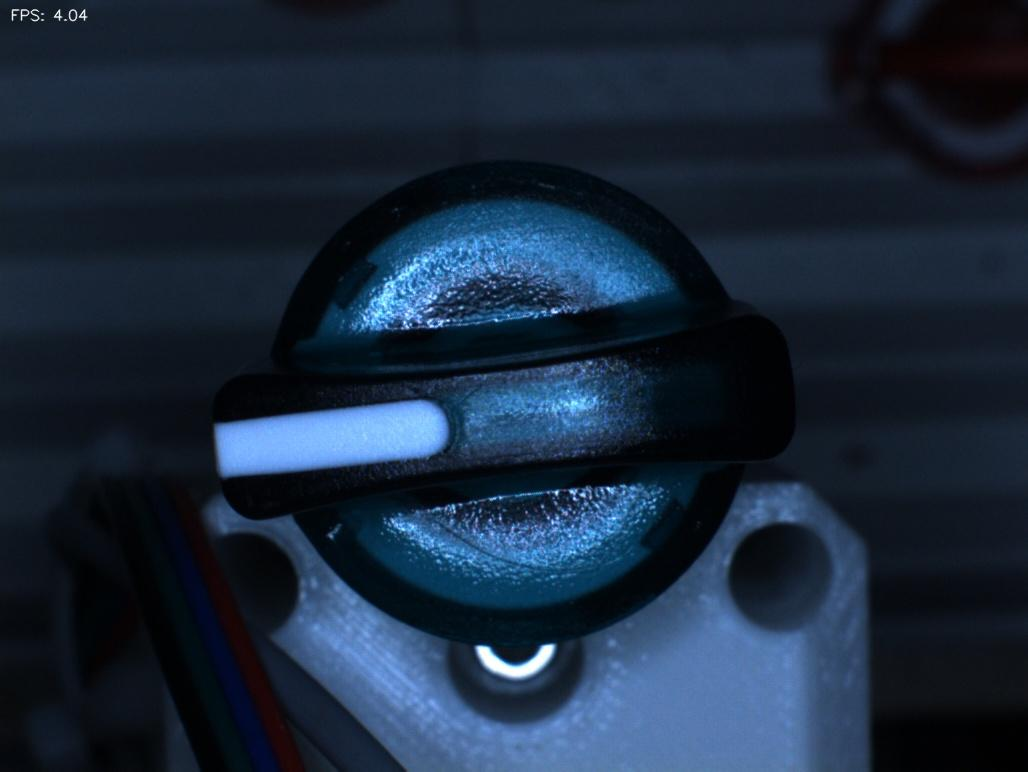Choc: (291, 502, 373, 578)
